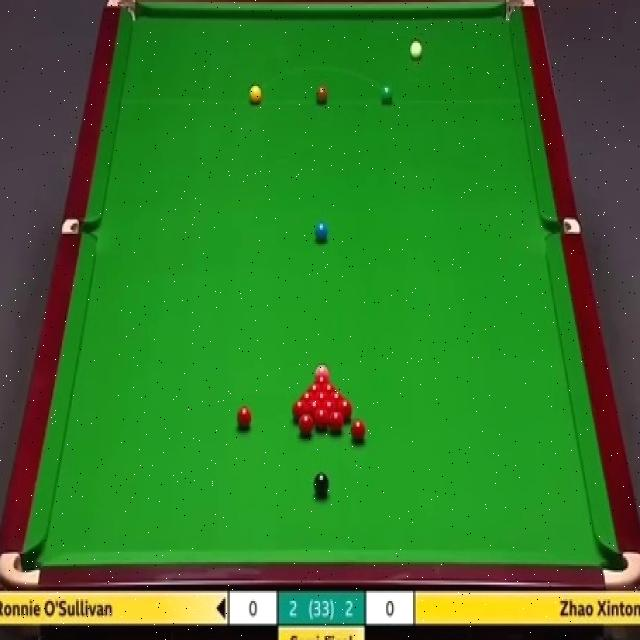black-ball: (313, 469, 329, 498)
blue-ball: (316, 222, 329, 244)
brown-ball: (315, 84, 327, 102)
green-ball: (381, 85, 393, 104)
pink-ball: (314, 360, 330, 378)
red-ball: (236, 407, 254, 432), (351, 417, 366, 446), (297, 414, 314, 438), (336, 399, 354, 420), (314, 407, 329, 432), (292, 399, 308, 421), (329, 412, 345, 434), (306, 398, 322, 414), (323, 401, 336, 418), (320, 383, 339, 394), (328, 391, 346, 402), (314, 392, 330, 402), (300, 392, 314, 403), (313, 374, 330, 383), (305, 383, 321, 392)
white-ball: (408, 38, 422, 62)
yellow-ball: (248, 83, 263, 105)
